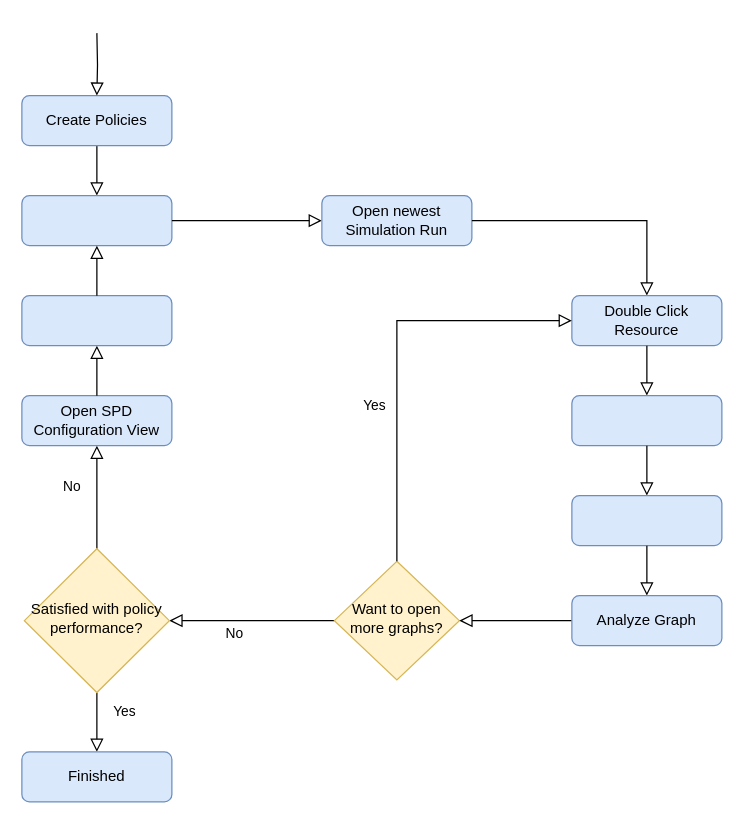
The diagram is 744 pixels wide and 824 high, and some of its shapes have lost their labels. The centre of each missing label's shape, as x and y in pixels:
"Modify Policies" goes at point 96,320.
"Open Graph" goes at point 646,520.
"Run Simulation" goes at point 96,220.
"Select Graph Type" goes at point 646,420.
